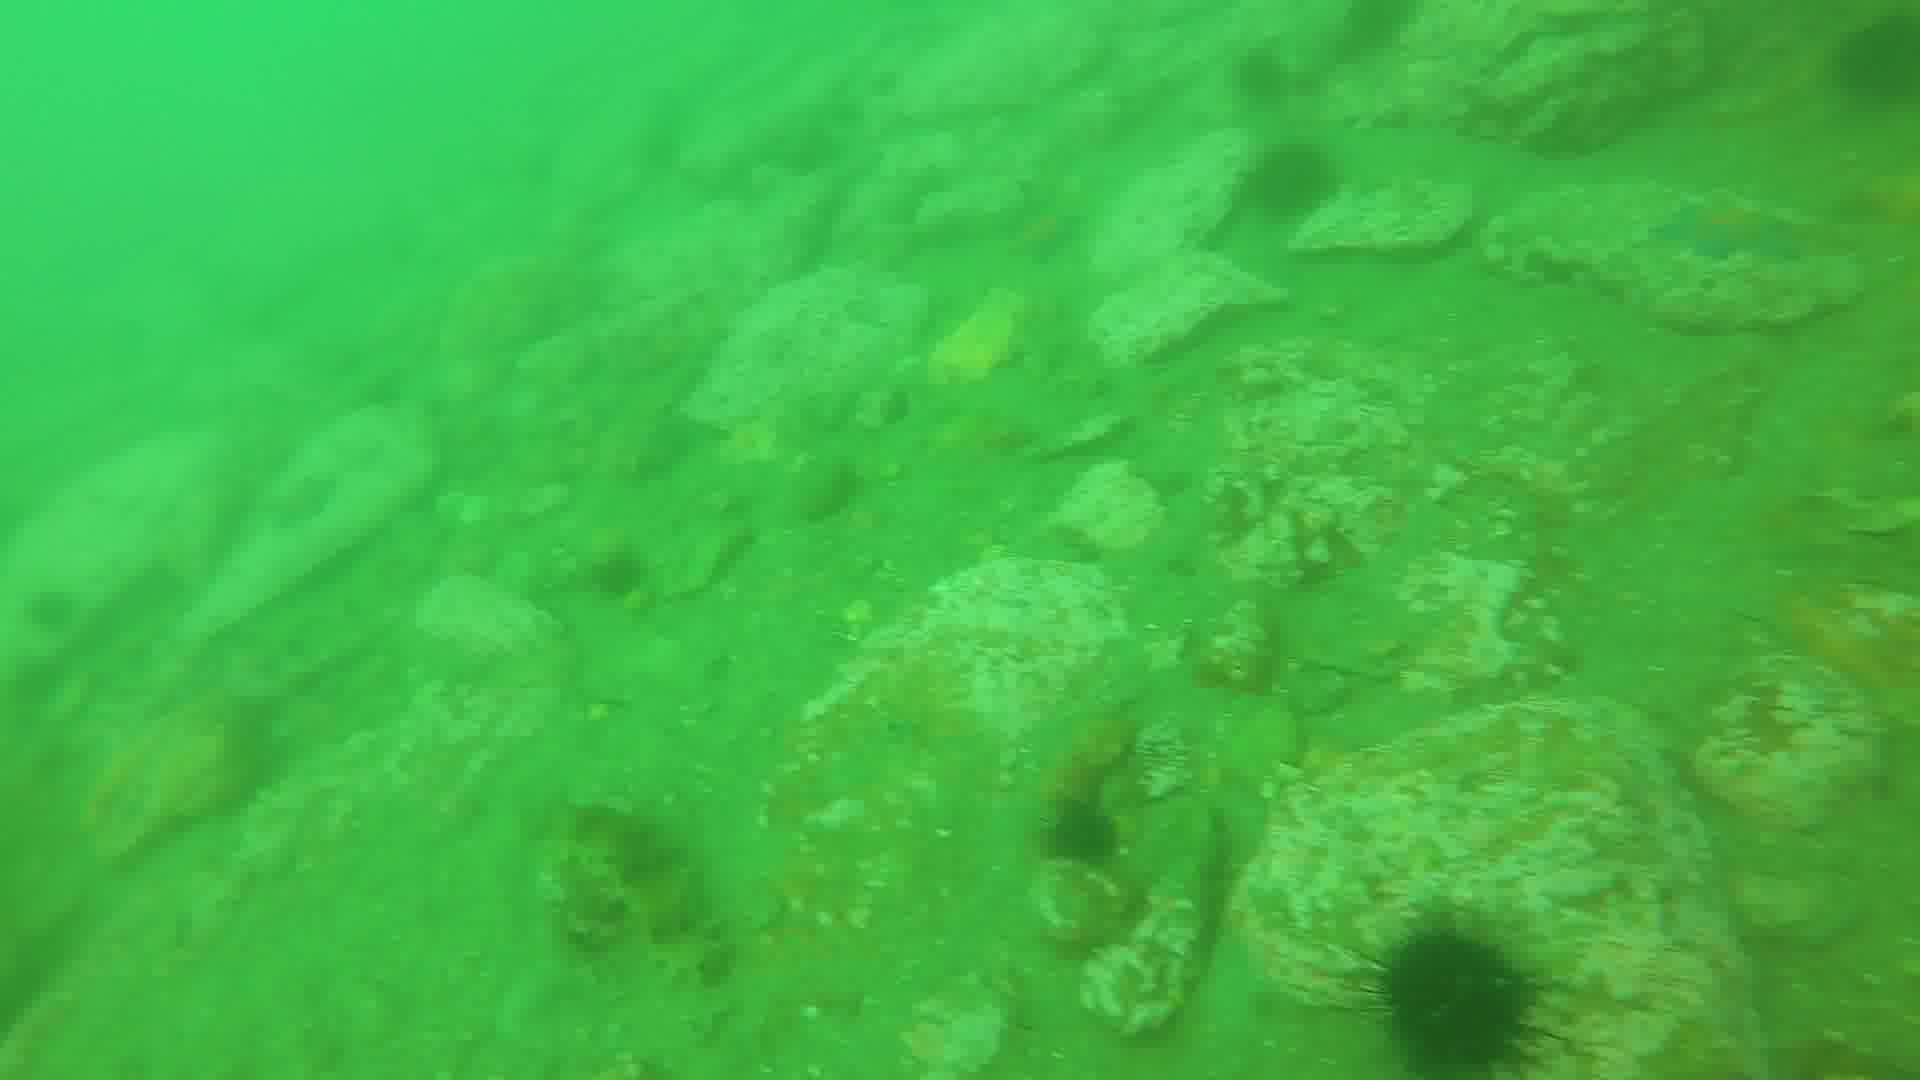echinus: (1366, 907, 1542, 1080), (1830, 25, 1920, 109), (1251, 146, 1336, 220), (1044, 799, 1117, 855), (1364, 3, 1422, 55), (1236, 53, 1296, 102)
holothurian: (571, 800, 717, 978)
starfish: (1655, 193, 1818, 262), (1006, 204, 1084, 272), (270, 473, 342, 531)
